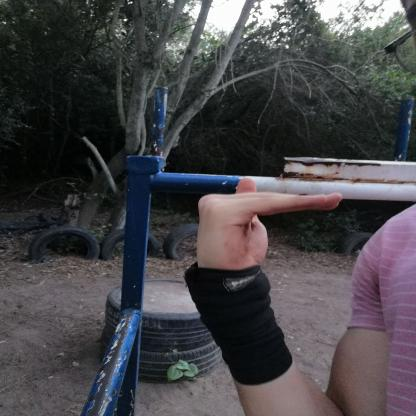KHAA: (175, 168, 358, 281)
